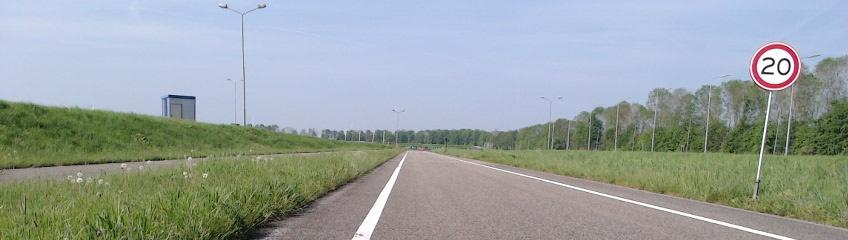Speed-limit-20km-h-: (750, 42, 801, 91)
